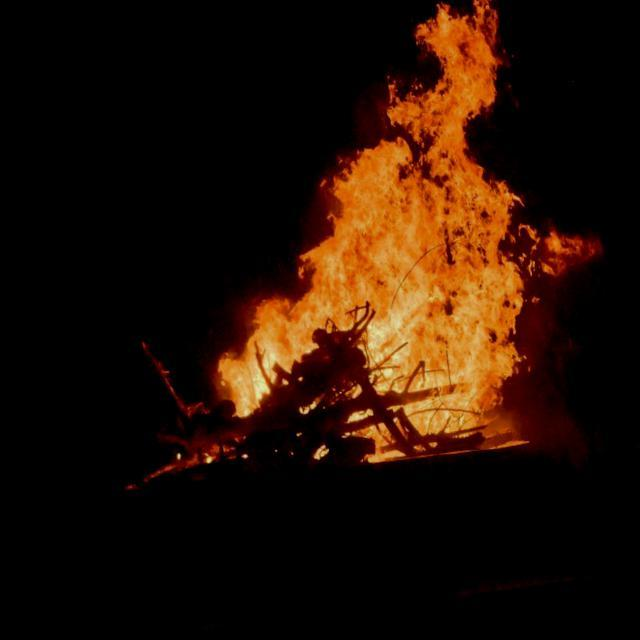Fire: (106, 0, 620, 508)
